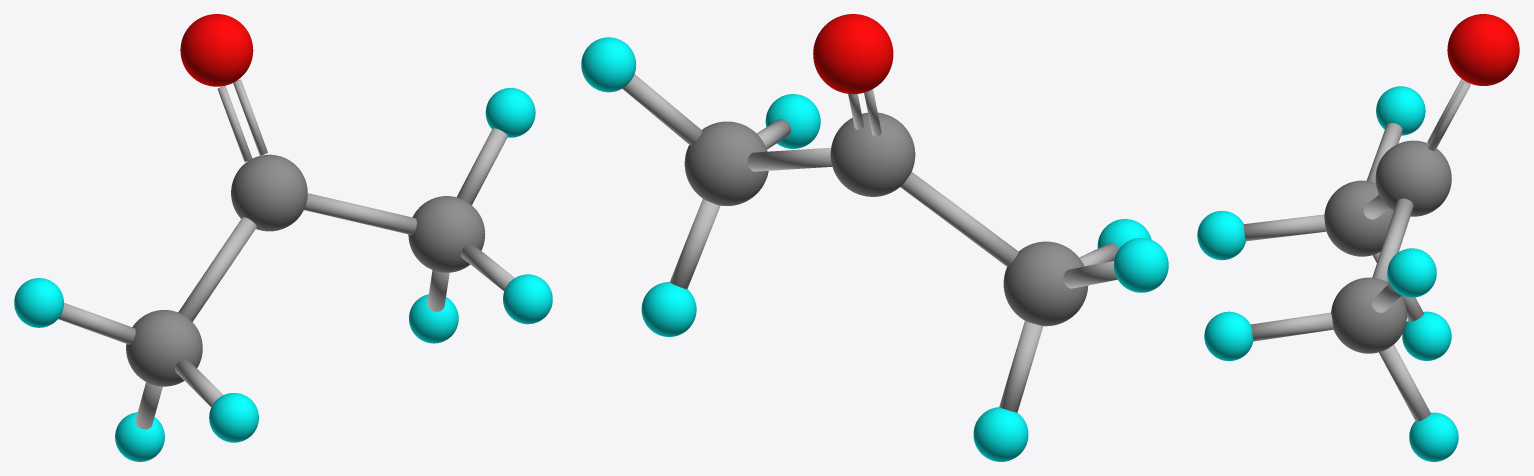
Rendered from acetone.glb.
3 views of the same model, side by side, from view 1: azimuth 30°, elevation 25°; view 2: azimuth 150°, elevation 25°; view 3: azimuth 270°, elevation 25° (orthographic). The views are drawn at different scales.
Visible parts, largest first — view 1: CMAtom_0; view 2: CMAtom_0; view 3: CMAtom_0.
Part boxes in pixels (x1,y1,x2,y2): CMAtom_0: (14, 14, 552, 461); CMAtom_0: (581, 14, 1168, 461); CMAtom_0: (1197, 14, 1519, 461).
Bounding box in the file's own units: 0.4822 × 0.3503 × 0.2608.
